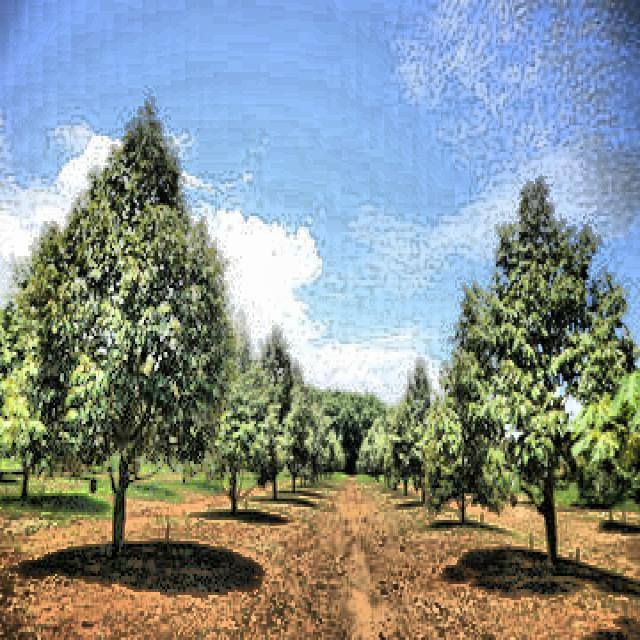arvore: (91, 412, 142, 578), (526, 412, 576, 574), (454, 437, 475, 541), (414, 447, 436, 513), (264, 438, 282, 513), (231, 442, 247, 514), (395, 446, 415, 503), (287, 446, 303, 501)
